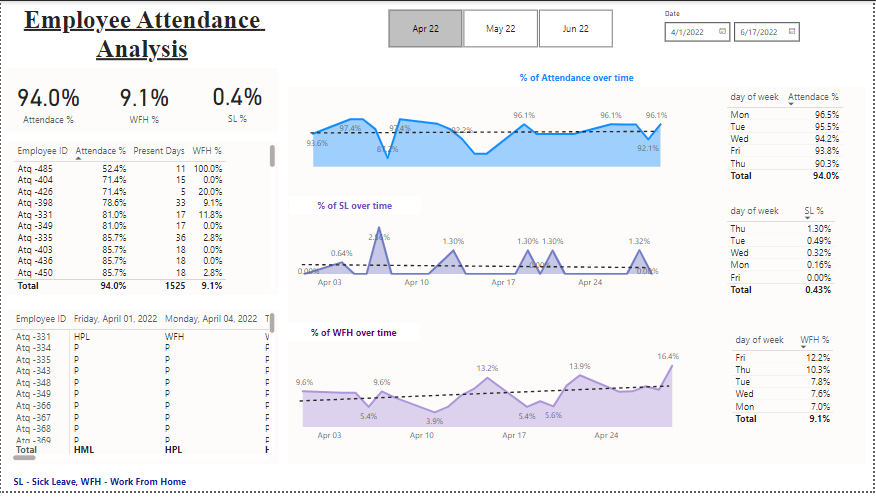

The page's visual inventory and layout, read from the dashboard file:
{"tool":"powerbi","page":{"name":"Presence Insights","canvas":[1280,720],"ordinal":0},"visuals":[{"type":"textbox","box":[7.8,205.6,399.9,225.5],"z":0},{"type":"textbox","box":[7.8,453.3,399.8,227.6],"z":1000},{"type":"textbox","box":[422.3,97.9,848.1,582.3],"z":2000},{"type":"textbox","box":[7.8,98,399.9,95.4],"z":3000},{"type":"tableEx","fields":{"Values":["Final Data.Employee ID","Measures (2).Attendace %","Measures (2).Present Days","Measures (2).WFH %"]},"box":[12.6,205.2,394.9,225.7],"z":4000},{"type":"slicer","fields":{"Values":["Final Data.Date"]},"box":[962,8,317.4,67],"z":5000},{"type":"slicer","fields":{"Values":["Final Data.MMM YY"]},"box":[543.7,5.9,379.1,69.1],"z":6000},{"type":"areaChart","fields":{"Category":["Final Data.MMM YY","Final Data.Date"],"Y":["Measures (2).WFH %"]},"box":[420.7,502.3,589,153.5],"z":7000},{"type":"areaChart","fields":{"Category":["Final Data.WeekNo","Final Data.Date"],"Y":["Measures (2).Attendace %"]},"box":[444.1,144.9,540.4,103.2],"z":8000},{"type":"card","fields":{"Values":["Measures (2).Attendace %"]},"box":[7.8,98,124,96.3],"z":9000},{"type":"card","fields":{"Values":["Measures (2).WFH %"]},"box":[141.4,98,138.8,96.3],"z":10000},{"type":"areaChart","fields":{"Category":["Final Data.MMM YY","Final Data.Date"],"Y":["Measures (2).SL %"]},"box":[422.5,307.1,556,124],"z":11000},{"type":"card","fields":{"Values":["Measures (2).SL %"]},"box":[286.3,97.2,121.4,96.3],"z":13000},{"type":"textbox","box":[7.3,0,399.7,97],"z":14000},{"type":"textbox","box":[421.7,98.4,847.8,27.9],"z":15000},{"type":"textbox","box":[422.5,286.3,192.6,26.9],"z":16000},{"type":"textbox","box":[422.1,473.7,192.6,27.2],"z":17000},{"type":"pivotTable","fields":{"Rows":["Final Data.Employee ID"],"Columns":["Final Data.Date"],"Values":["Min(Final Data.Value)"]},"box":[11.7,453.3,395.9,227.6],"z":18000},{"type":"textbox","box":[13.6,691.6,289.8,28.2],"z":19000},{"type":"tableEx","fields":{"Values":["Final Data.day of week","Measures (2).Attendace %"]},"box":[1060.9,125.8,209.9,145.7],"z":20000},{"type":"tableEx","fields":{"Values":["Final Data.day of week","Measures (2).SL %"]},"box":[1060.9,294.1,191.7,167.4],"z":21000},{"type":"tableEx","fields":{"Values":["Final Data.day of week","Measures (2).WFH %"]},"box":[1068.7,483.2,170,167.4],"z":22000}]}

Visuals, with their boxes in screenshot pixels (x1, y1, x2, y2), scaled from the page's 1280x720 canvas onto the 876x497 screenshot:
textbox: [5, 142, 279, 298]
textbox: [5, 313, 279, 470]
textbox: [289, 68, 869, 470]
textbox: [5, 68, 279, 133]
tableEx - Final Data.Employee ID x Measures (2).Attendace %: [9, 142, 279, 297]
slicer - Final Data.Date: [658, 6, 875, 52]
slicer - Final Data.MMM YY: [372, 4, 632, 52]
areaChart - Final Data.MMM YY x Final Data.Date: [288, 347, 691, 453]
areaChart - Final Data.WeekNo x Final Data.Date: [304, 100, 674, 171]
card - Measures (2).Attendace %: [5, 68, 90, 134]
card - Measures (2).WFH %: [97, 68, 192, 134]
areaChart - Final Data.MMM YY x Final Data.Date: [289, 212, 670, 298]
card - Measures (2).SL %: [196, 67, 279, 134]
textbox: [5, 0, 279, 67]
textbox: [289, 68, 869, 87]
textbox: [289, 198, 421, 216]
textbox: [289, 327, 421, 346]
pivotTable - Final Data.Employee ID x Final Data.Date: [8, 313, 279, 470]
textbox: [9, 477, 208, 496]
tableEx - Final Data.day of week x Measures (2).Attendace %: [726, 87, 870, 187]
tableEx - Final Data.day of week x Measures (2).SL %: [726, 203, 857, 319]
tableEx - Final Data.day of week x Measures (2).WFH %: [731, 334, 848, 449]
